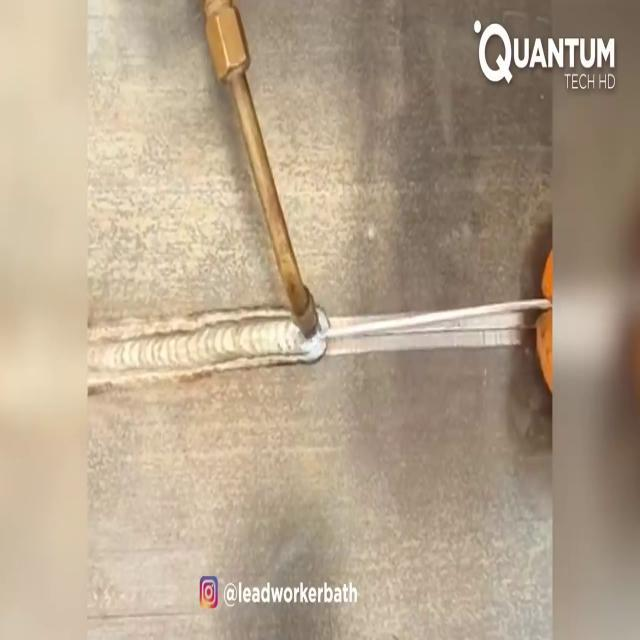Good Weld: (87, 320, 291, 366)
